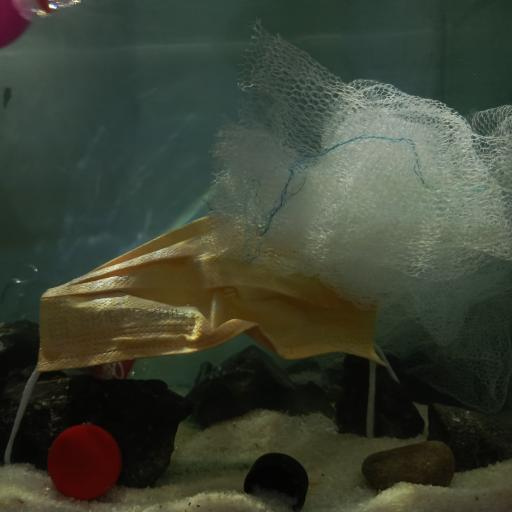bottle_cap: (47, 423, 123, 500), (244, 451, 310, 512)
mask: (16, 210, 399, 408)
net: (205, 17, 512, 412)
plastic_bottle: (0, 261, 217, 392), (1, 0, 82, 47)
